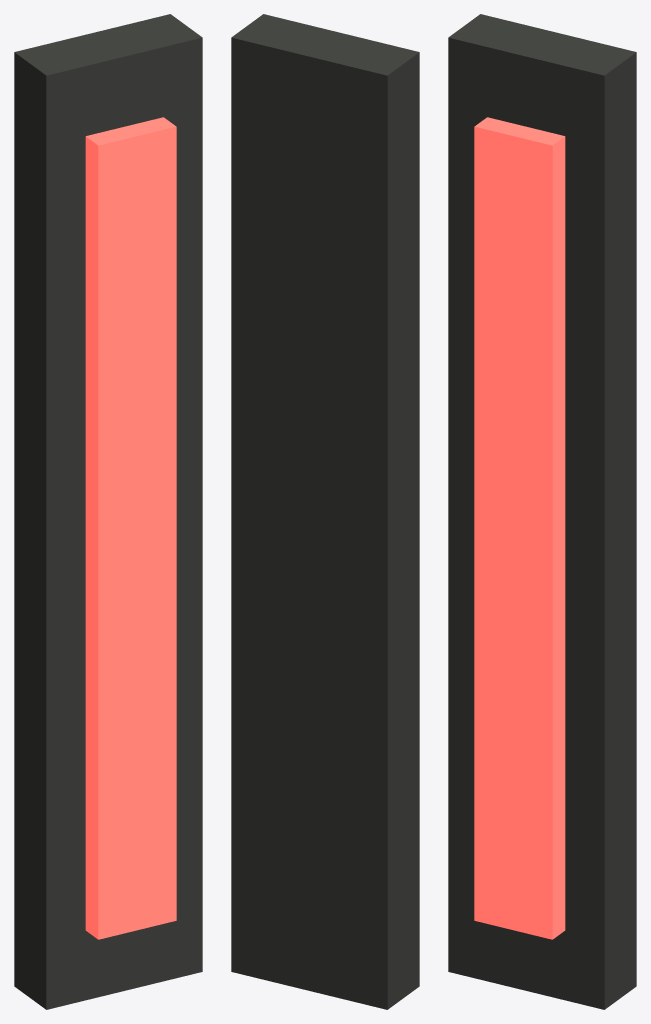
The model's file is b1_redlight.glb.
The picture shows the model from 3 angles, left to right: view 1: azimuth 30°, elevation 25°; view 2: azimuth 150°, elevation 25°; view 3: azimuth 330°, elevation 25°; orthographic projection.
Visible parts, largest first — view 1: b1_redlight; view 2: b1_redlight; view 3: b1_redlight.
Part boxes in pixels (x1,y1,x2,y2): b1_redlight: [14, 14, 202, 1009]; b1_redlight: [231, 14, 419, 1009]; b1_redlight: [448, 14, 636, 1009].
Bounding box in the file's own units: 0.14 × 0.8 × 0.07.
